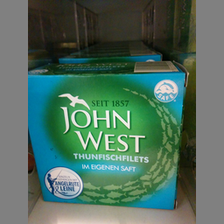fish: (28, 63, 188, 211)
